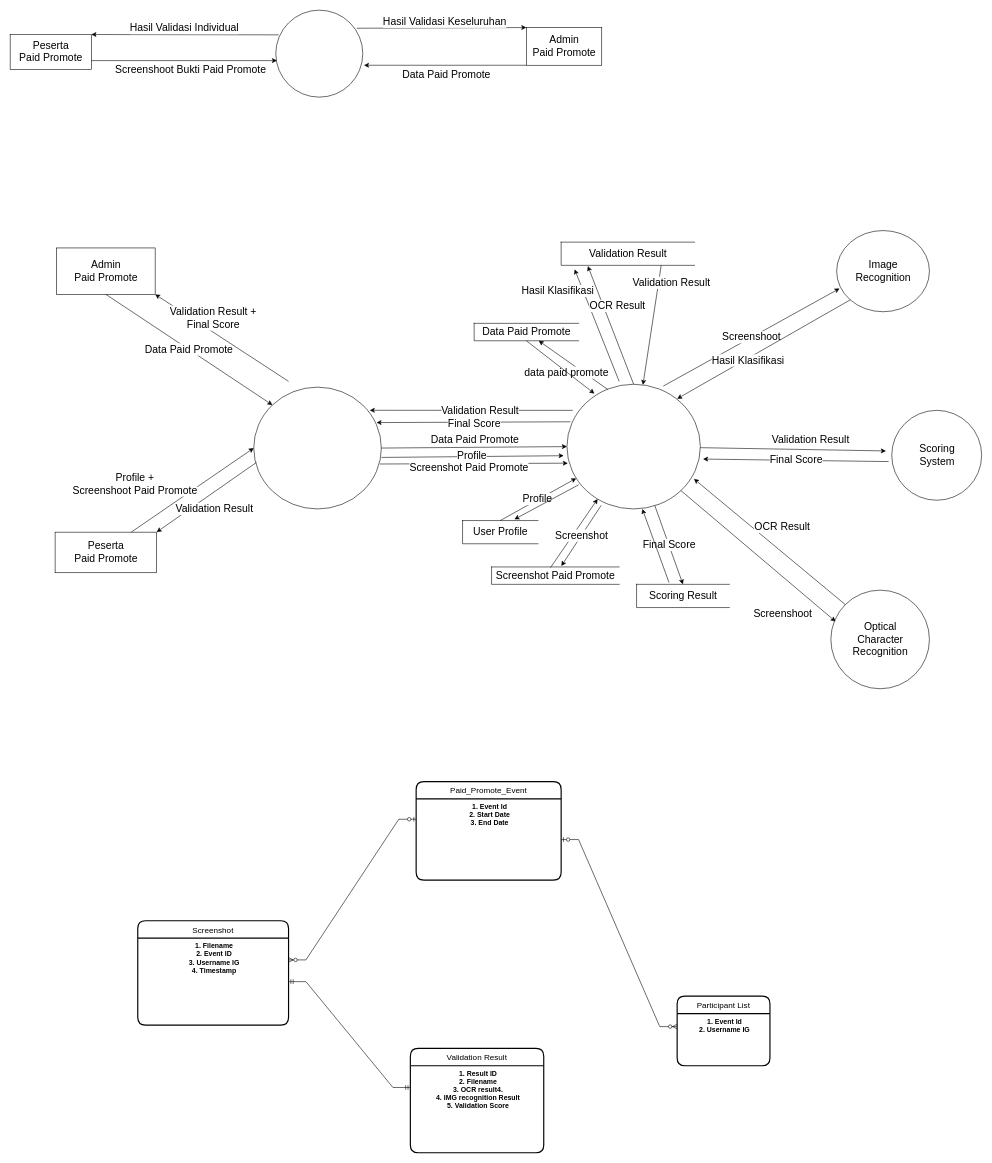
This 992x1163 diagram has some shape labels left out. The shapes that lost their labels are listed below. From the top down, each one's centre as x and y in pixels, then its label:
[319,53]: Sistem Validasi Paid Promote
[317,448]: HTTP Server
[633,446]: Database Server
